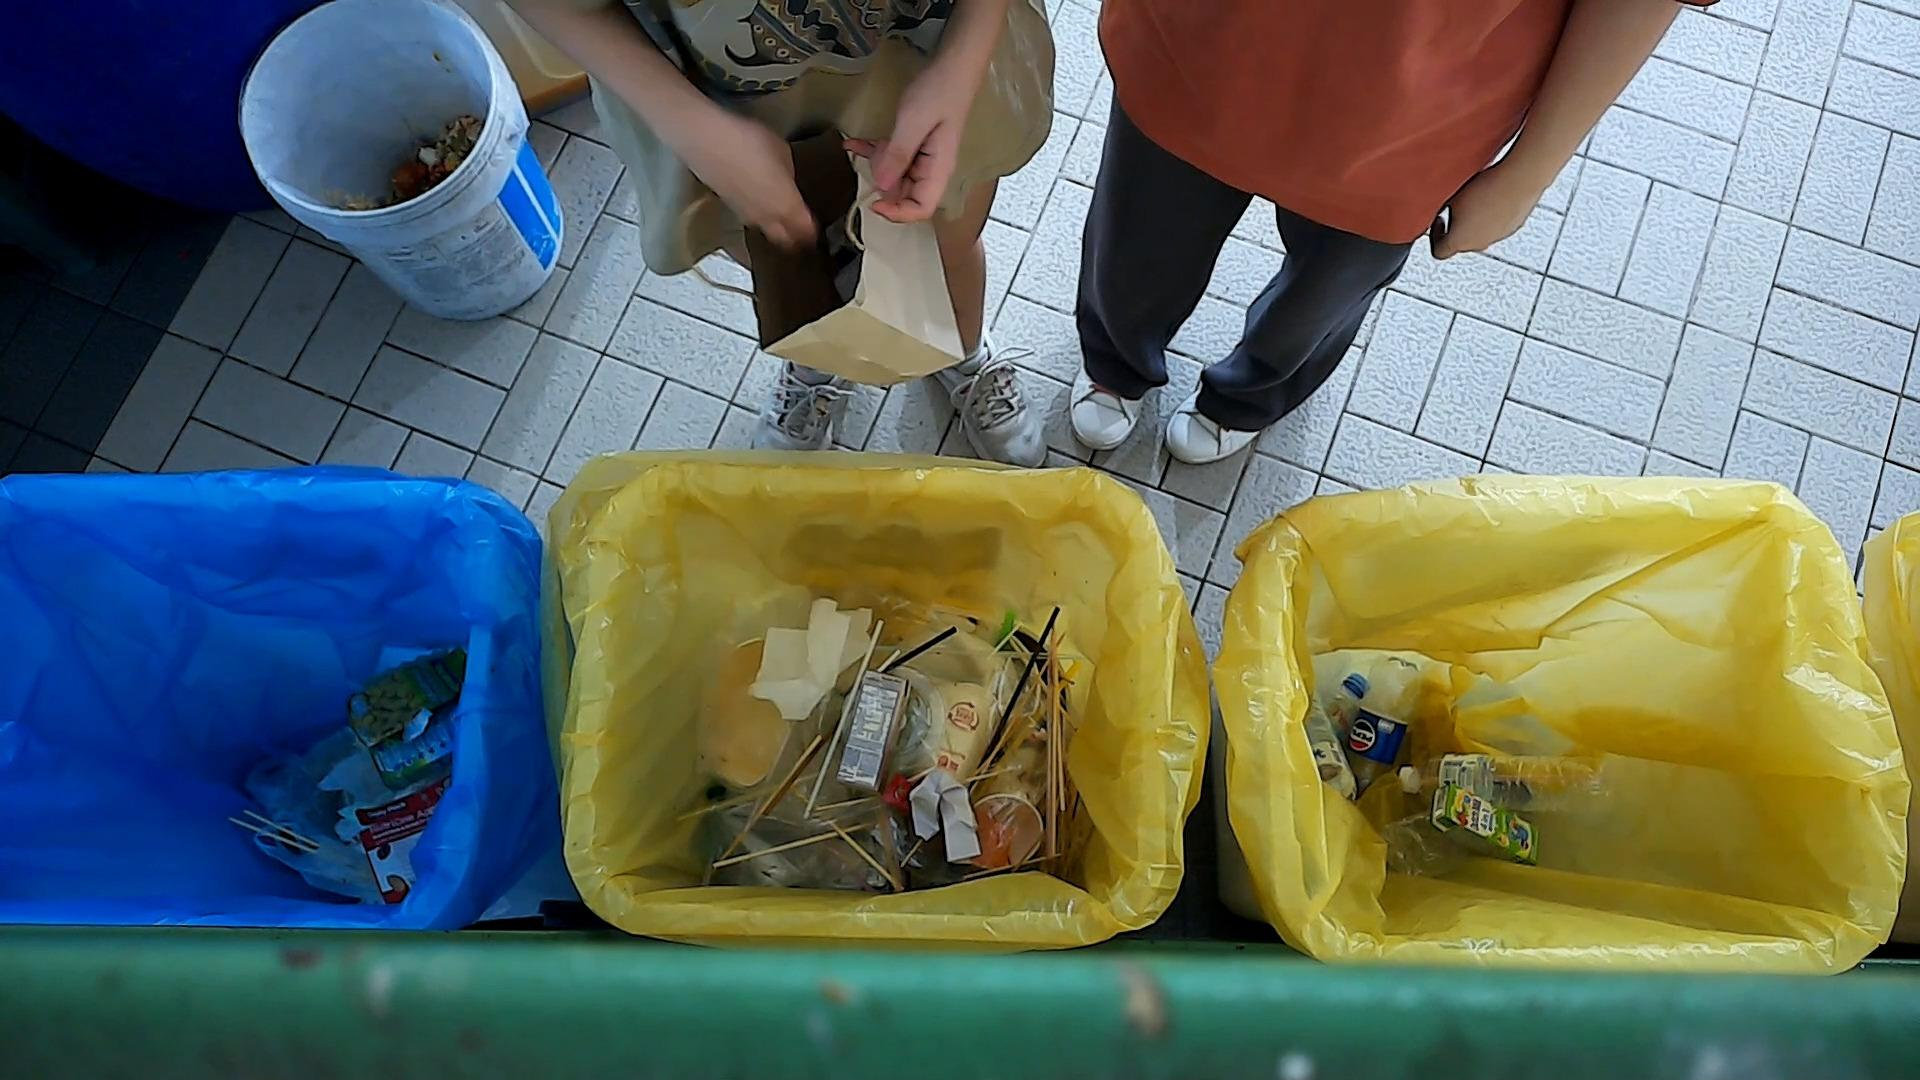filled plastic bag: (225, 807, 419, 905)
milk carton: (831, 647, 915, 795), (1428, 779, 1543, 868), (365, 699, 460, 793)
paper bag: (666, 116, 972, 393)
plastic bottle: (1395, 753, 1625, 822), (1342, 653, 1428, 798)
snack packaging: (338, 644, 471, 753), (352, 773, 455, 906)
sticks: (963, 629, 1067, 803), (719, 732, 823, 862), (814, 766, 1014, 814), (708, 819, 874, 873), (823, 814, 907, 893), (1046, 625, 1067, 858)
straw: (791, 616, 889, 818), (992, 605, 1062, 742), (670, 769, 822, 827)
tissue paper: (746, 591, 880, 725), (907, 764, 982, 865)
zero waste cup: (906, 663, 1006, 803), (960, 764, 1047, 870)
